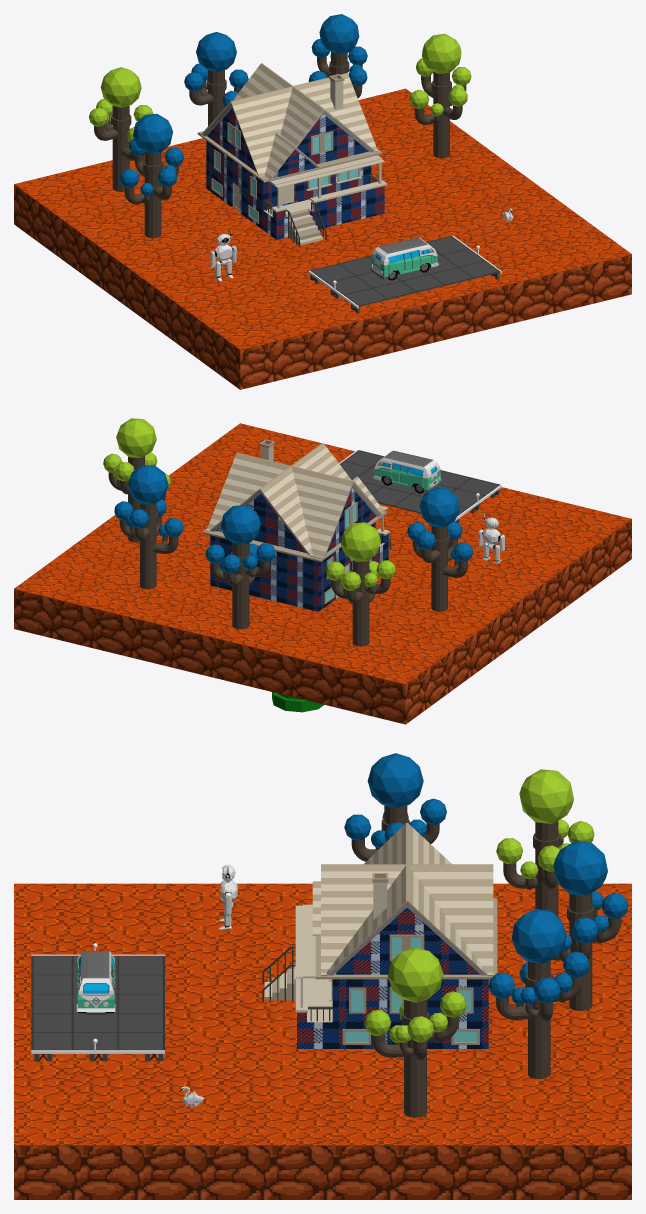
3 renders of one model, top to bottom at view 1: azimuth 30°, elevation 25°; view 2: azimuth 150°, elevation 25°; view 3: azimuth 270°, elevation 25°, orthographic. The views are drawn at different scales.
Parts seen in each view (by area): view 1: Cube.001, Cube.171, VEHICLES_VAN, OBJRANDOM_PLATZEEBOT; view 2: Cube.001, Cube.171, VEHICLES_VAN, OBJRANDOM_PLATZEEBOT, UNDERGROUND_PIPES; view 3: Cube.001, Cube.171, VEHICLES_VAN, OBJRANDOM_PLATZEEBOT.
Boxes of the visible parts, x1,y1,x2,y2 form: Cube.001: [14, 14, 631, 389]; Cube.171: [197, 63, 387, 246]; VEHICLES_VAN: [369, 237, 438, 280]; OBJRANDOM_PLATZEEBOT: [210, 229, 236, 281]; Cube.001: [14, 418, 631, 724]; Cube.171: [202, 439, 390, 611]; VEHICLES_VAN: [373, 450, 442, 493]; OBJRANDOM_PLATZEEBOT: [478, 513, 504, 563]; UNDERGROUND_PIPES: [272, 692, 324, 712]; Cube.001: [14, 753, 631, 1199]; Cube.171: [262, 823, 497, 1048]; VEHICLES_VAN: [76, 951, 116, 1014]; OBJRANDOM_PLATZEEBOT: [218, 865, 237, 929].
Size of the model in its own units: 4000 by 2247 by 4000.
Materials: 32 (5 with a texture image).
